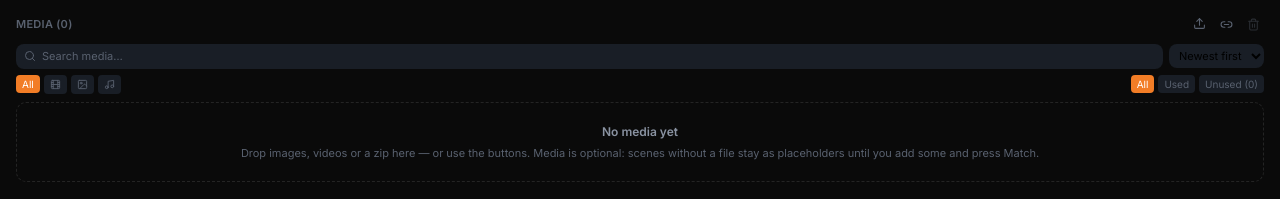
Scenario: U9 — ONE import door for files, folders and zips › one icon opens a menu offering Files & zips and Folder
Click the button with test id "media-block-import".
click(1200, 24)  # box [1189,13,1210,34]
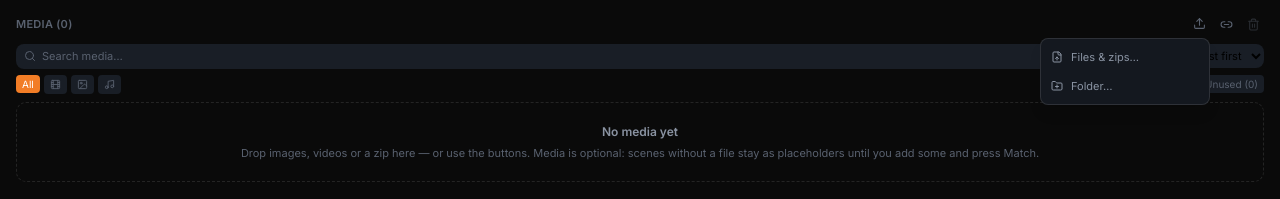
Check: the menu item with test id "media-block-import-files" is shown, box [1041,43,1209,72]
Check: the menu item with test id "media-block-import-folder" is shown, box [1041,72,1209,100]
